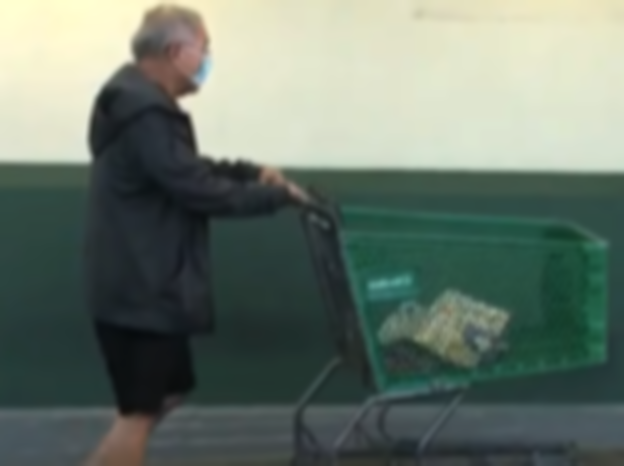mask_weared_incorrect: (162, 3, 217, 95)
